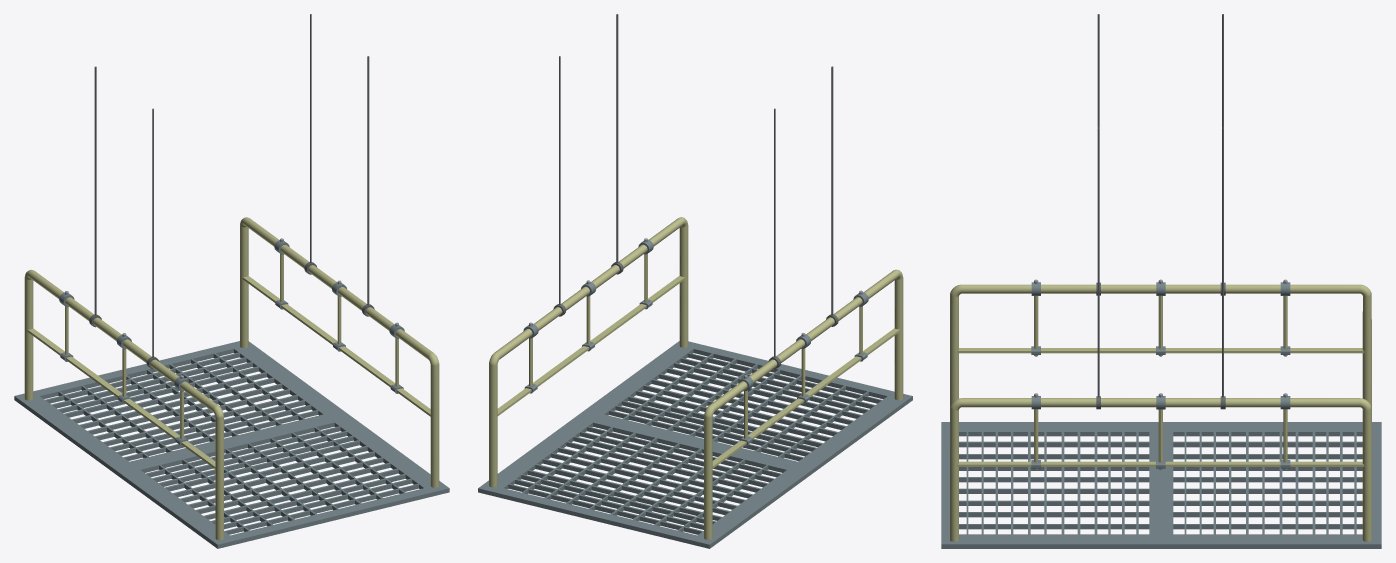
File: Warehouse_Floating_Walkway_Base (1).fbx
3 views of the same model, side by side, from view 1: azimuth 30°, elevation 25°; view 2: azimuth 150°, elevation 25°; view 3: azimuth 270°, elevation 25° (orthographic). The views are drawn at different scales.
Visible parts, largest first — view 1: pCube51, pCylinder69, pCylinder66; view 2: pCube51, pCylinder68, pCylinder66; view 3: pCube51, pCylinder66, pCylinder67.
Boxes of the visible parts, bbox=[...] form: pCube51: bbox=[14, 217, 449, 548]; pCylinder69: bbox=[94, 66, 96, 315]; pCylinder66: bbox=[367, 56, 369, 305]; pCube51: bbox=[478, 217, 912, 548]; pCylinder68: bbox=[831, 66, 833, 315]; pCylinder66: bbox=[616, 14, 618, 262]; pCube51: bbox=[941, 279, 1381, 548]; pCylinder66: bbox=[1097, 127, 1099, 397]; pCylinder67: bbox=[1222, 127, 1223, 397].
Size of the model in its own units: 1.31 by 2.08 by 1.99.
